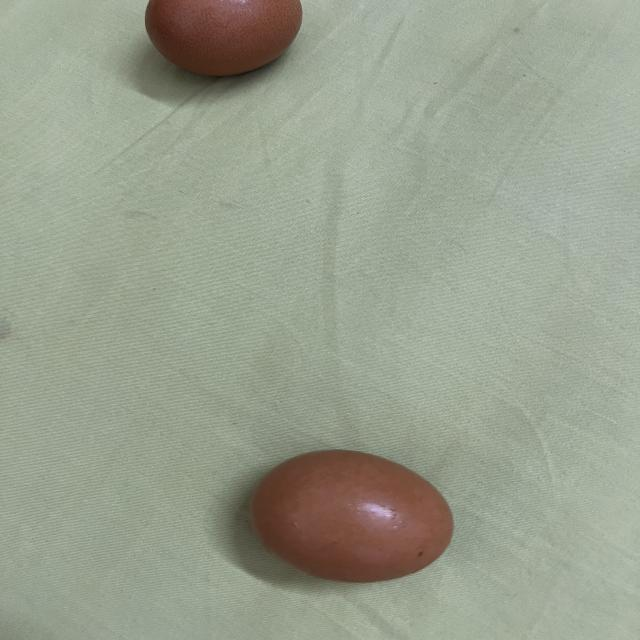egg: (248, 443, 464, 588), (140, 0, 304, 88)
